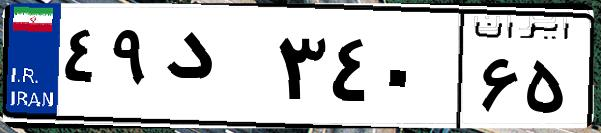0: (385, 28, 445, 110)
3: (270, 28, 330, 110)
4: (330, 28, 385, 110), (57, 26, 110, 100)
5: (525, 38, 570, 115)
6: (475, 38, 525, 113)
9: (110, 28, 158, 98)
د: (158, 20, 270, 120)
